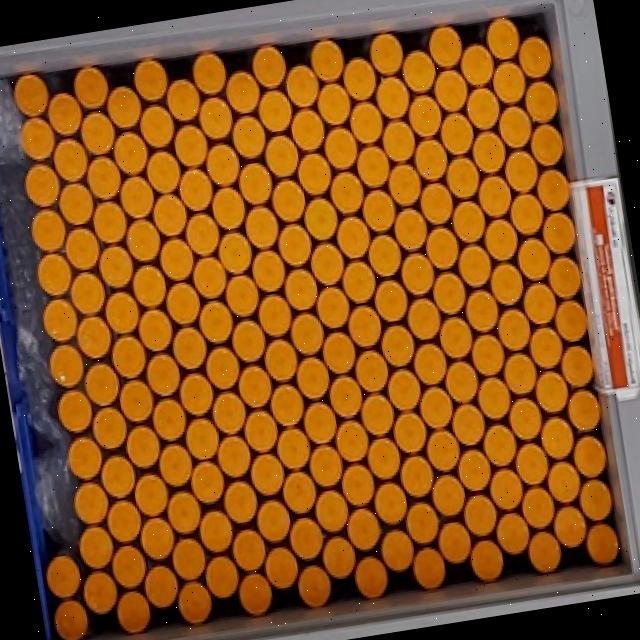vials: (53, 138, 89, 182), (42, 298, 78, 342), (46, 555, 82, 599), (113, 131, 148, 176), (133, 59, 169, 102), (70, 272, 106, 315), (84, 363, 120, 406), (177, 581, 213, 624), (252, 45, 287, 89), (225, 70, 260, 114), (304, 197, 339, 241), (140, 104, 175, 148), (146, 150, 181, 194), (81, 111, 116, 155), (48, 92, 83, 136), (20, 117, 55, 161), (25, 163, 60, 207), (31, 209, 66, 253), (112, 335, 147, 379), (126, 425, 161, 469), (101, 455, 136, 499), (144, 565, 179, 609), (107, 500, 142, 544), (83, 571, 118, 615), (310, 39, 345, 82), (285, 64, 320, 107), (192, 52, 227, 95), (107, 86, 142, 129), (126, 219, 161, 262), (65, 227, 100, 270), (99, 245, 134, 288), (138, 309, 173, 352), (105, 291, 140, 334), (322, 536, 357, 579), (77, 316, 112, 359), (49, 345, 84, 388), (152, 398, 187, 441), (238, 573, 273, 616), (92, 407, 127, 450), (134, 474, 169, 517), (116, 591, 151, 634), (112, 546, 147, 589), (58, 390, 93, 433), (74, 482, 109, 525), (402, 49, 436, 93), (517, 237, 551, 281), (382, 119, 416, 163), (298, 152, 332, 196), (272, 179, 306, 223), (232, 115, 266, 159), (153, 193, 187, 237), (160, 238, 194, 282), (199, 300, 233, 344), (87, 156, 121, 200), (535, 370, 569, 414), (509, 397, 543, 441), (438, 521, 472, 565), (347, 508, 381, 552), (315, 490, 349, 534), (290, 517, 324, 561), (146, 353, 180, 397), (218, 232, 253, 274), (166, 283, 201, 325), (73, 67, 108, 109), (14, 75, 49, 117), (59, 183, 94, 225), (37, 254, 72, 296), (270, 384, 305, 426), (79, 527, 114, 569), (486, 17, 520, 60), (492, 61, 526, 104), (530, 123, 564, 166), (460, 43, 494, 86), (370, 33, 404, 76), (505, 150, 539, 193), (343, 57, 377, 100), (446, 156, 480, 199), (510, 193, 544, 236), (317, 82, 351, 125), (324, 127, 358, 170), (490, 263, 524, 306), (394, 208, 428, 251), (362, 189, 396, 232), (258, 89, 292, 132), (337, 216, 371, 259), (368, 234, 402, 277), (401, 253, 435, 296), (206, 143, 240, 186), (239, 162, 273, 205), (245, 206, 279, 249), (167, 79, 201, 122), (179, 168, 213, 211), (186, 213, 220, 256), (252, 249, 286, 292), (120, 175, 154, 218), (573, 435, 607, 478), (342, 261, 376, 304), (407, 298, 441, 341), (348, 305, 382, 348), (316, 286, 350, 329), (290, 312, 324, 355), (496, 512, 530, 555), (463, 494, 497, 537), (470, 539, 504, 582), (329, 375, 363, 418), (361, 393, 395, 436), (400, 455, 434, 498), (367, 437, 401, 480), (374, 482, 408, 525), (381, 529, 415, 572), (173, 327, 207, 370), (238, 365, 272, 408), (212, 392, 246, 435), (180, 373, 214, 416), (244, 410, 278, 453), (257, 500, 291, 543), (232, 529, 266, 572), (224, 481, 258, 524), (191, 461, 225, 504), (205, 556, 239, 599), (172, 538, 206, 581), (140, 517, 174, 560), (68, 437, 102, 480), (409, 94, 442, 138), (516, 442, 549, 486), (200, 510, 233, 554), (53, 600, 89, 640), (518, 36, 552, 78), (429, 26, 463, 68), (434, 70, 468, 112), (376, 76, 410, 118), (478, 176, 512, 218), (484, 219, 518, 261), (554, 300, 588, 342), (458, 245, 492, 287), (291, 109, 325, 151), (265, 135, 299, 177), (278, 224, 312, 266), (193, 257, 227, 299), (226, 275, 260, 317), (232, 320, 266, 362), (579, 479, 613, 521), (586, 523, 620, 565), (483, 424, 517, 466), (553, 506, 587, 548), (445, 361, 479, 403), (381, 325, 415, 367), (284, 269, 318, 311), (93, 201, 127, 243), (393, 412, 427, 454), (426, 430, 460, 472), (432, 475, 466, 517), (277, 428, 311, 470), (282, 472, 316, 514), (206, 347, 240, 389), (120, 380, 154, 422), (250, 454, 284, 496), (265, 547, 299, 589), (167, 492, 201, 534), (525, 80, 558, 123), (441, 112, 474, 155), (548, 256, 581, 299), (350, 101, 383, 144), (433, 272, 466, 315), (311, 243, 344, 286), (199, 97, 232, 140), (568, 389, 601, 432), (548, 461, 581, 504), (541, 417, 574, 460), (478, 377, 511, 420), (414, 343, 447, 386), (452, 403, 485, 446), (133, 264, 166, 307), (342, 464, 375, 507), (406, 502, 439, 545), (159, 444, 192, 487), (472, 132, 506, 173), (414, 140, 448, 181), (542, 213, 576, 254), (528, 532, 562, 573), (322, 333, 356, 374), (355, 351, 389, 392), (354, 557, 388, 598), (298, 566, 332, 607), (467, 88, 500, 130), (388, 164, 421, 206), (357, 146, 390, 188), (426, 227, 459, 269), (331, 172, 364, 214), (465, 290, 498, 332), (498, 309, 531, 351), (530, 327, 563, 369), (212, 187, 245, 229), (175, 125, 208, 167), (259, 295, 292, 337), (504, 353, 537, 395), (472, 334, 505, 376), (375, 280, 408, 322), (458, 449, 491, 491), (490, 469, 523, 511), (297, 357, 330, 399), (413, 547, 446, 589), (310, 445, 343, 487), (186, 418, 219, 460), (218, 436, 251, 478), (265, 339, 297, 382), (499, 107, 532, 148), (537, 170, 570, 211), (453, 201, 486, 242), (420, 183, 453, 224), (523, 283, 556, 324), (522, 488, 555, 529), (388, 370, 421, 411), (420, 388, 453, 429), (336, 421, 369, 462), (304, 403, 337, 444), (561, 345, 593, 387), (440, 318, 472, 359)
